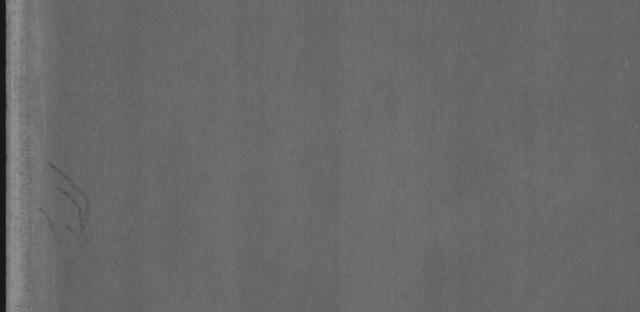water_spot: (36, 154, 100, 250)
